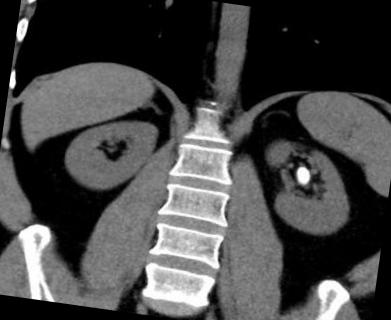Tas_Var: (292, 164, 312, 189)
